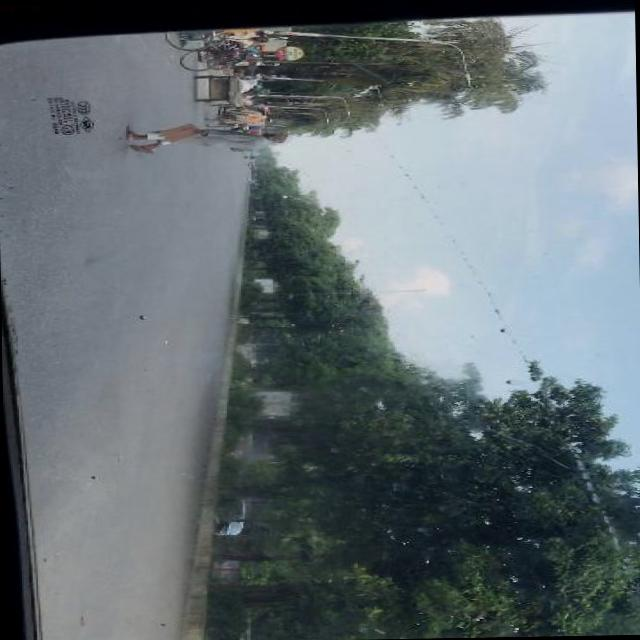motorcycle: (202, 102, 272, 127)
